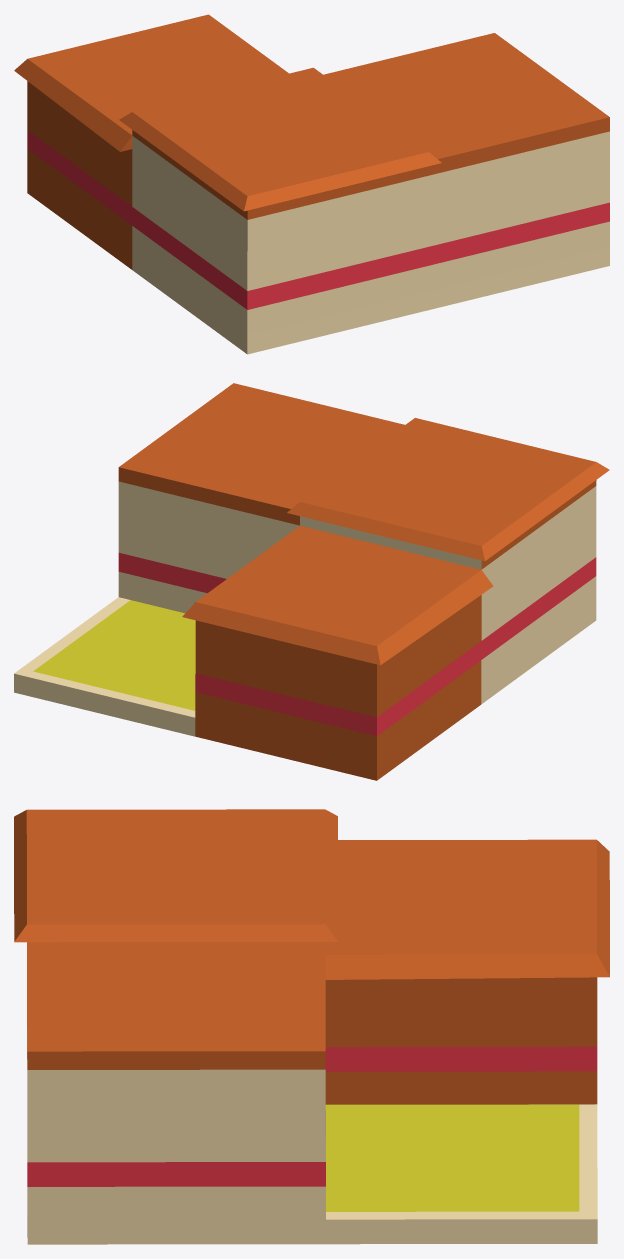
The model's file is House_20.fbx.
3 renders of one model, top to bottom at view 1: azimuth 30°, elevation 25°; view 2: azimuth 150°, elevation 25°; view 3: azimuth 270°, elevation 25°, orthographic. The views are drawn at different scales.
Visible parts, largest first — view 1: House_20; view 2: House_20; view 3: House_20.
Boxes of the visible parts, x1=… form: House_20: x1=14, y1=14, x2=609, y2=354; House_20: x1=14, y1=383, x2=609, y2=780; House_20: x1=14, y1=809, x2=609, y2=1244.
Bounding box in the file's own units: 310 × 125 × 329.
